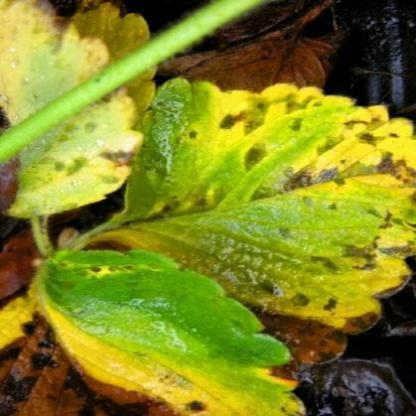Strawberry_Angular_LeafSpot: (89, 75, 415, 365), (30, 250, 307, 415), (0, 0, 158, 219)
